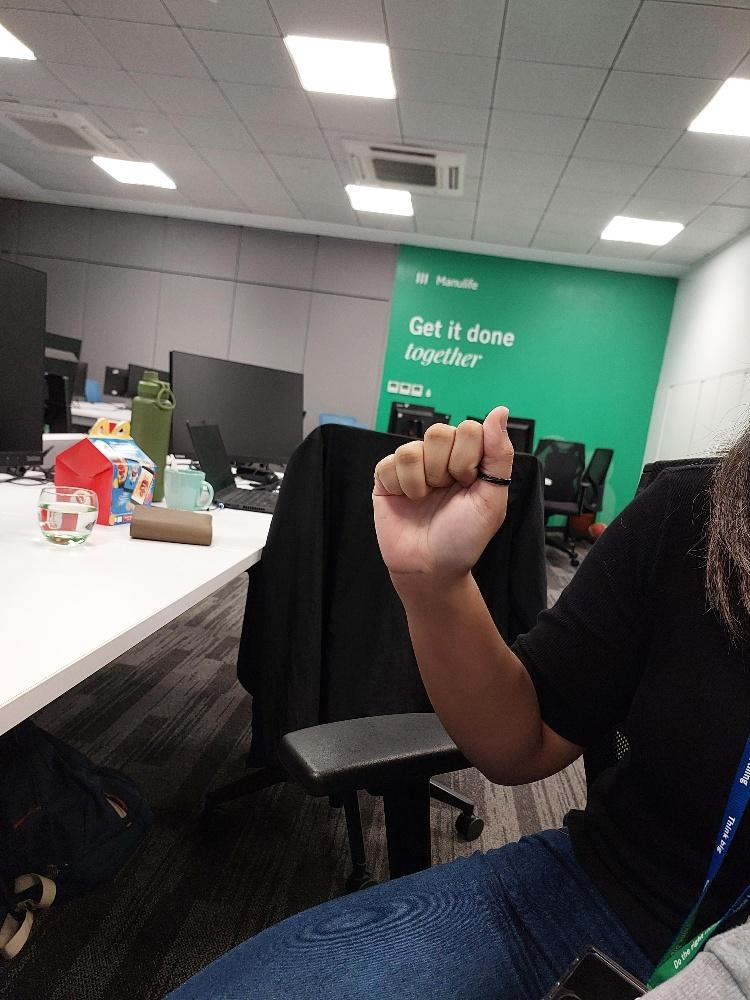a: (370, 403, 515, 580)
